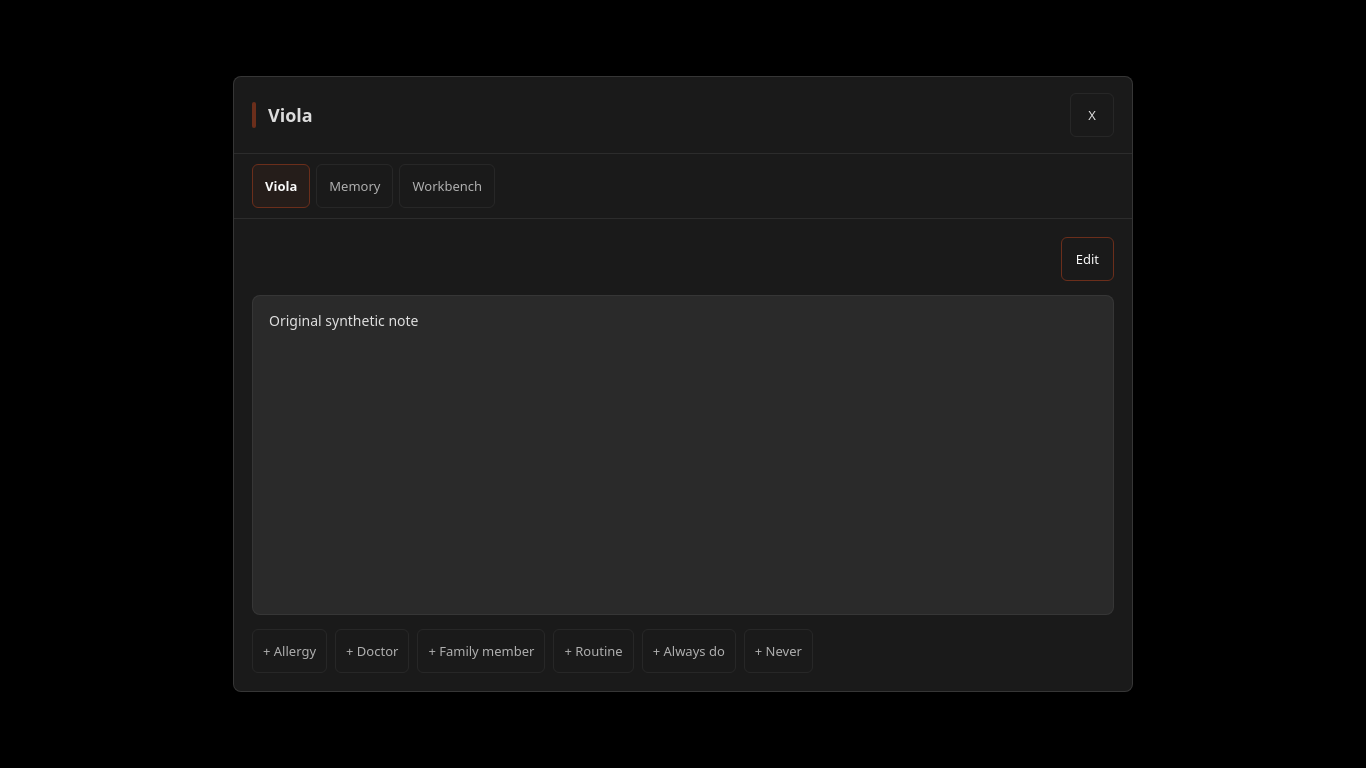
Test: MemoryPanel desktop draft ownership through authFetch › saves the later draft on a second explicit Save after the first acknowledgement
Click the button "Edit": (1087, 259) [1061, 237, 1114, 281]
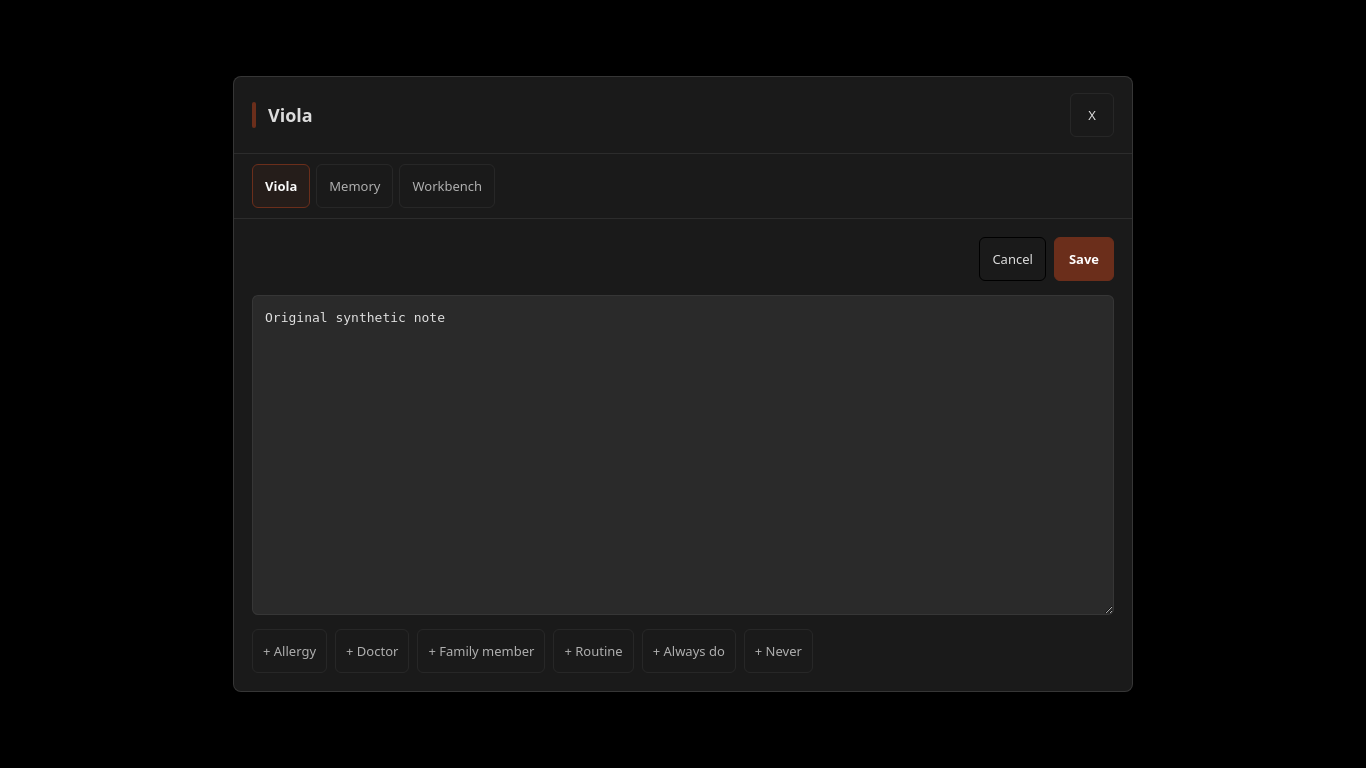
Replace the text in the text box named "Edit VIOLA.md" with "First submitted note": (683, 455) [252, 295, 1114, 615]
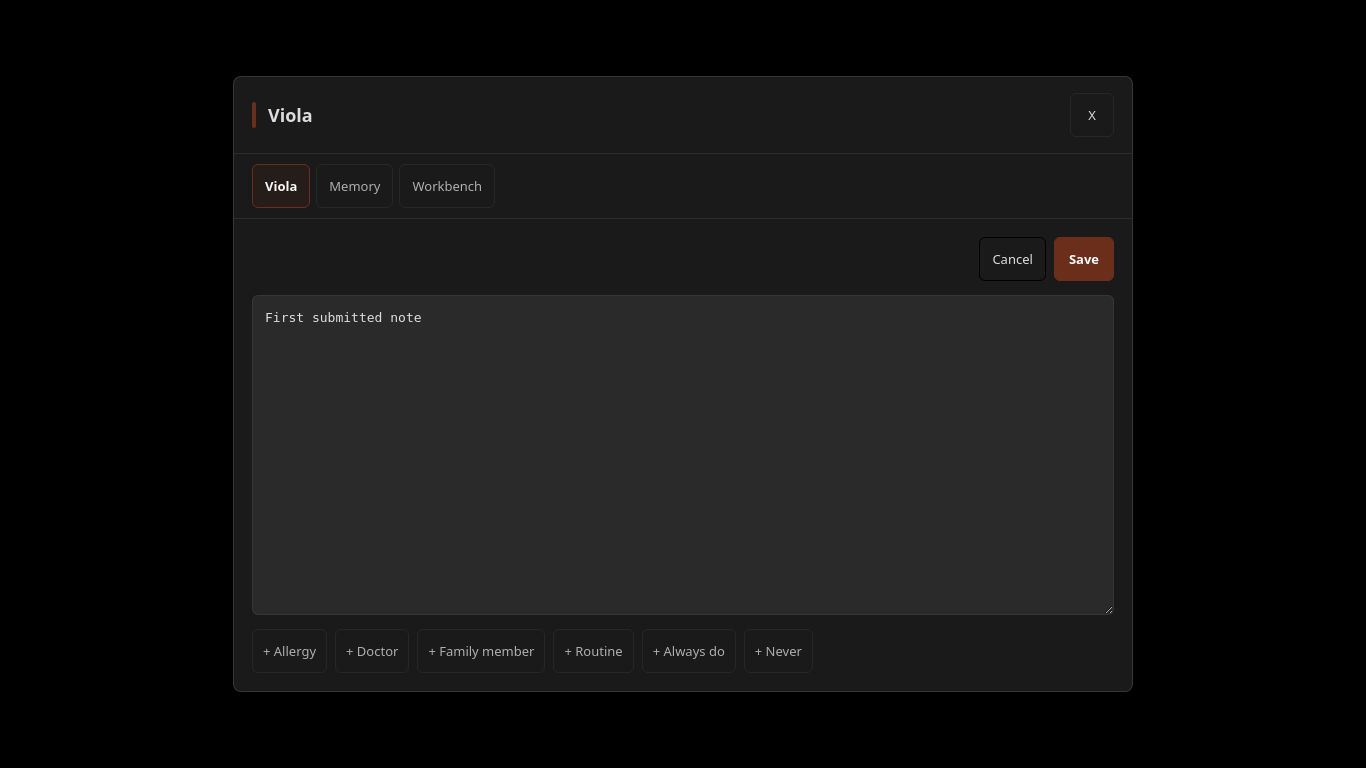
Click the button "Save": (1084, 259) [1054, 237, 1114, 281]
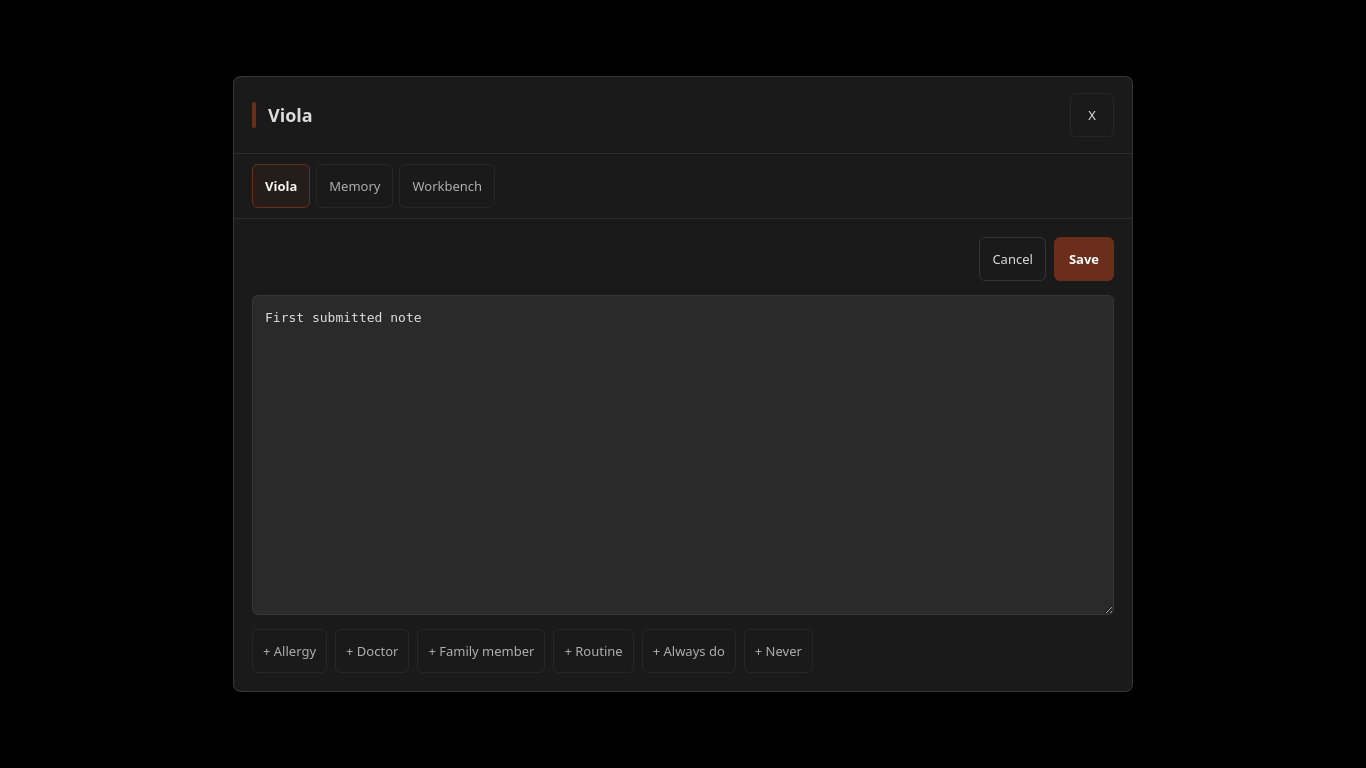
Replace the text in the text box named "Edit VIOLA.md" with "Second owned draft": (683, 455) [252, 295, 1114, 615]
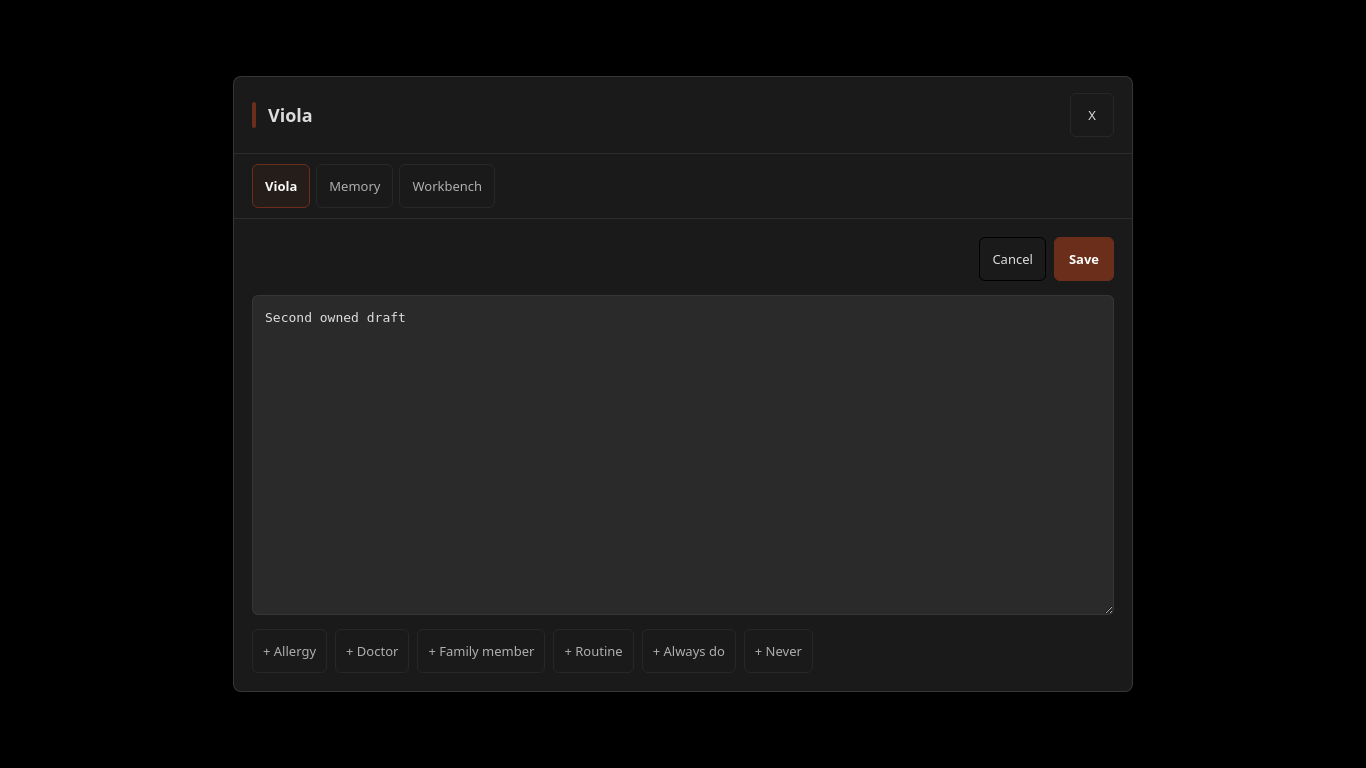
Click the button "Save": (1084, 259) [1054, 237, 1114, 281]
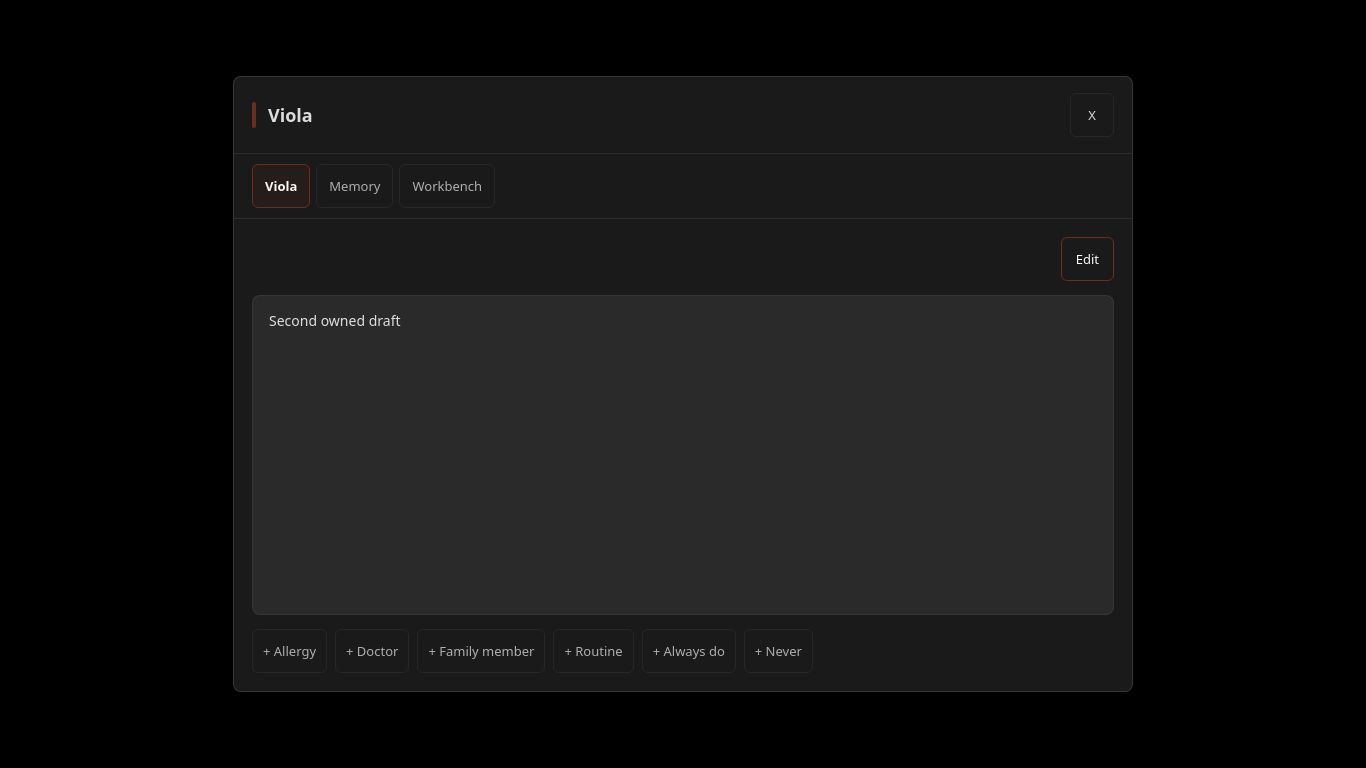
Check: the text "Second owned draft" is shown, box [269, 311, 400, 330]
Check: the element with test id "viola-md-rendered" reads "Second owned draft", box [269, 311, 400, 330]
